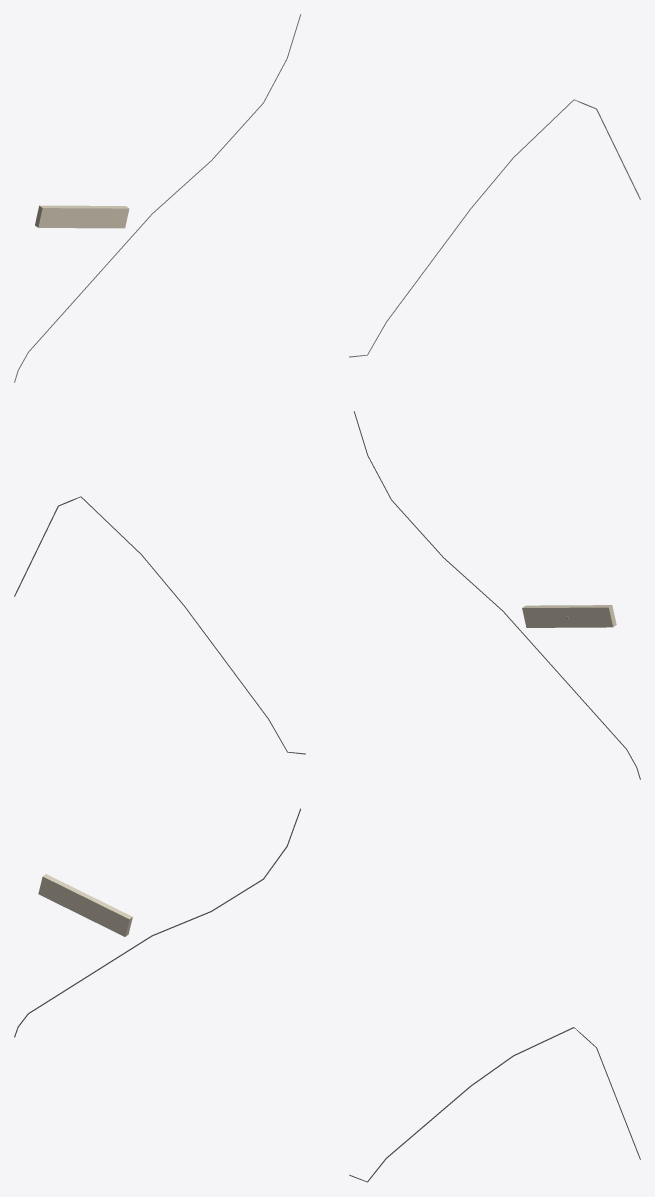
Rendered from historic-palestine-12_25_3543_3192.glb.
The picture shows the model from 3 angles, top to bottom: view 1: azimuth 30°, elevation 25°; view 2: azimuth 150°, elevation 25°; view 3: azimuth 330°, elevation 25°; orthographic projection.
Visible parts, largest first — view 1: Building_, Road, Road .001; view 2: Building_, Road, Road .001; view 3: Building_, Road, Road .001.
Boxes of the visible parts, x1,y1,x2,y2 form: Building_: [35, 205, 129, 228]; Road: [349, 99, 640, 357]; Road .001: [14, 14, 301, 382]; Building_: [522, 605, 616, 627]; Road: [14, 496, 305, 754]; Road .001: [353, 411, 640, 779]; Building_: [38, 874, 132, 936]; Road: [349, 1027, 640, 1182]; Road .001: [14, 808, 300, 1037].
Size of the model in its own units: 782 by 426 by 8.7.
